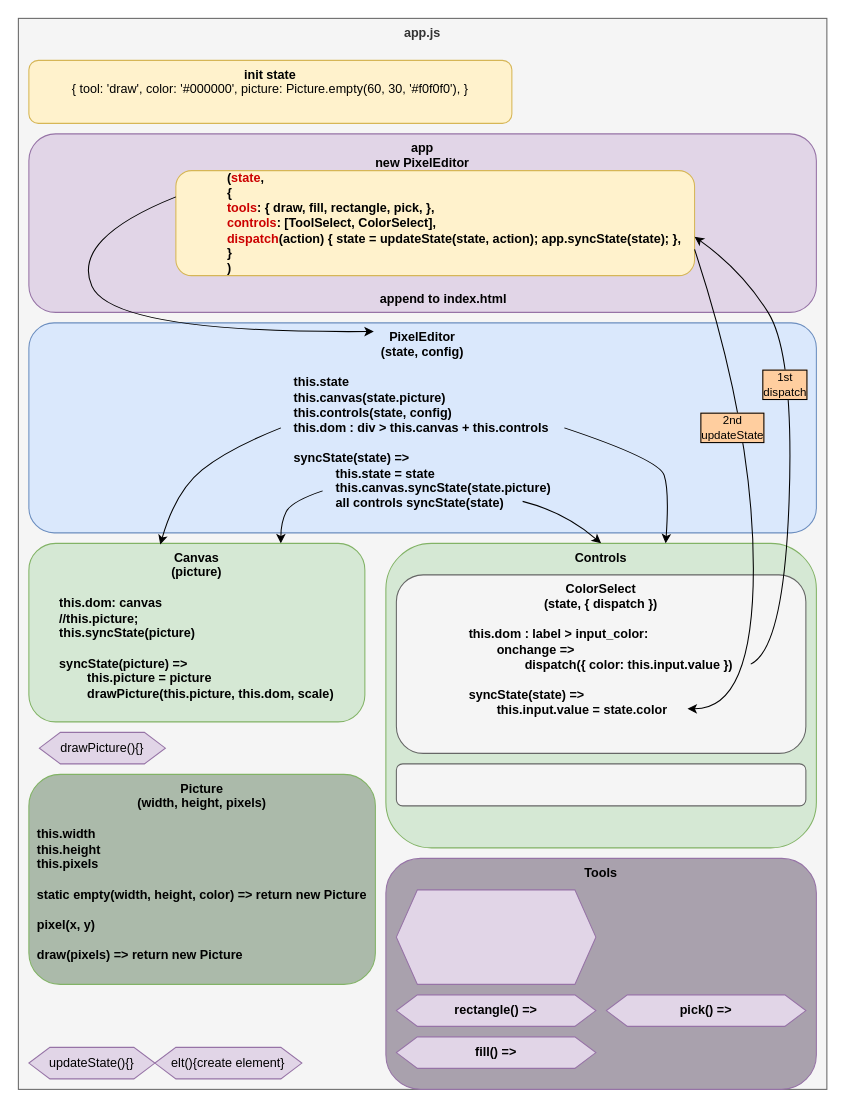
Some shapes in this 845 by 1108 pixel diagram are drawn without their labels. Each missing label, with the centre of its shape:
"draw() => drawPix() => draw dispatch return drawPix" goes at point (495, 936).
"ToolSelect" goes at point (600, 784).
